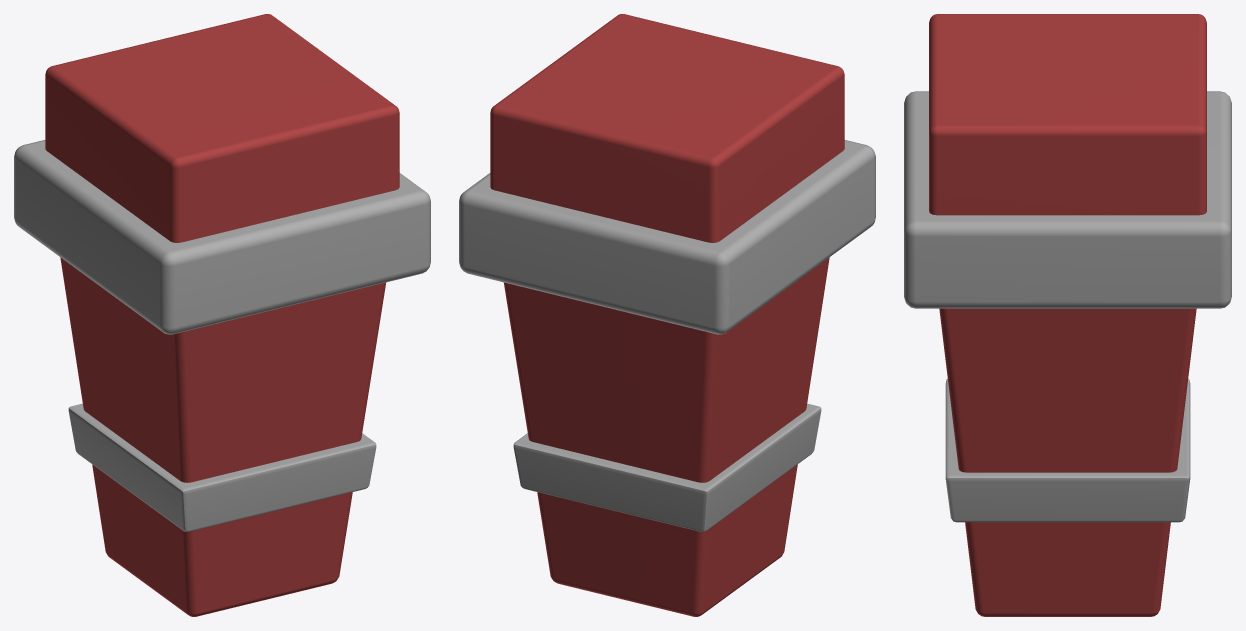
File: Platform_Stylized_02.fbx
3 renders of one model, left to right at view 1: azimuth 30°, elevation 25°; view 2: azimuth 150°, elevation 25°; view 3: azimuth 270°, elevation 25°, orthographic. The views are drawn at different scales.
Parts seen in each view (by area): view 1: Platform_Base, Platform_Emissive, Platform_Emissive2; view 2: Platform_Base, Platform_Emissive, Platform_Emissive2; view 3: Platform_Base, Platform_Emissive, Platform_Emissive2.
Part boxes in pixels (x1=…): Platform_Base: x1=45, y1=14, x2=399, y2=616; Platform_Emissive: x1=14, y1=140, x2=430, y2=334; Platform_Emissive2: x1=68, y1=403, x2=376, y2=531; Platform_Base: x1=490, y1=14, x2=844, y2=616; Platform_Emissive: x1=459, y1=140, x2=875, y2=334; Platform_Emissive2: x1=513, y1=403, x2=821, y2=531; Platform_Base: x1=929, y1=14, x2=1206, y2=616; Platform_Emissive: x1=904, y1=91, x2=1231, y2=308; Platform_Emissive2: x1=945, y1=379, x2=1190, y2=522.
Bounding box in the file's own units: 137 × 236 × 137.
